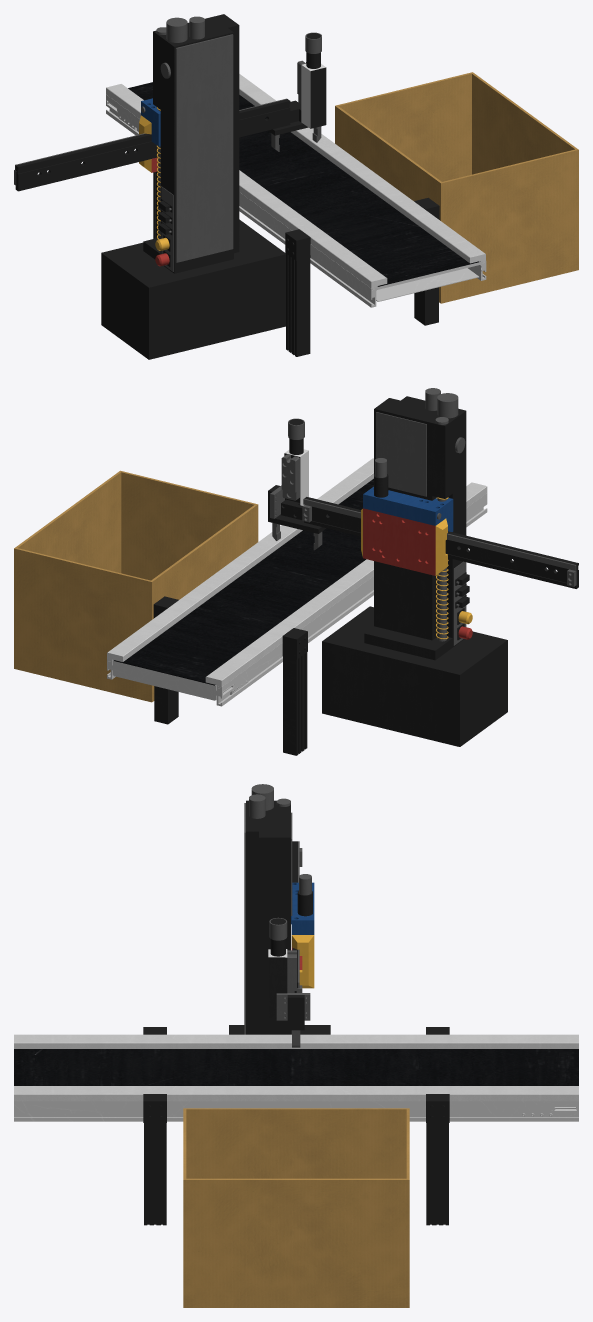
Rendered from Collection_Box_Station.glb.
3 views of the same model, one above another, from view 1: azimuth 30°, elevation 25°; view 2: azimuth 150°, elevation 25°; view 3: azimuth 270°, elevation 25° (orthographic). The views are drawn at different scales.
Visible parts, largest first — view 1: color-49, color, color-47[2].001, color[26], color[25], color-5[3], color-47[3].001, color-47[4].001, color-47[5].001, color-48[1], color-47[1].001, color-48[2] (+4 smaller); view 2: color-49, color, color-47[2].001, color[25], color-47[3].001, color-47[4].001, color-5[3], color-2[7], color[24], color-48, color-47[5].001, color-47.001 (+10 smaller); view 3: color-49, color-47[2].001, color-47[3].001, color-47[4].001, color[25], color-47[5].001, color-48[2], color-48[3], color-47.001, color-5[7], color-2[5], color-2[1].
Part boxes in pixels (<box>): color-49: <box>335,72,578,303</box>; color: <box>101,219,285,359</box>; color-47[2].001: <box>128,82,479,286</box>; color[26]: <box>175,34,233,262</box>; color[25]: <box>153,14,239,263</box>; color-5[3]: <box>15,99,290,191</box>; color-47[3].001: <box>239,74,485,263</box>; color-47[4].001: <box>106,84,387,289</box>; color-47[5].001: <box>125,109,486,307</box>; color-48[1]: <box>285,229,310,356</box>; color-47[1].001: <box>376,268,478,301</box>; color-48[2]: <box>414,197,439,325</box>; color-49: <box>14,470,258,702</box>; color: <box>322,606,507,746</box>; color-47[2].001: <box>113,478,373,685</box>; color[25]: <box>374,396,466,640</box>; color-47[3].001: <box>107,458,373,661</box>; color-47[4].001: <box>205,482,487,688</box>; color-5[3]: <box>304,497,578,588</box>; color-2[7]: <box>363,508,435,575</box>; color[24]: <box>376,412,426,496</box>; color-48: <box>282,628,307,755</box>; color-47[5].001: <box>241,493,487,691</box>; color-47.001: <box>107,659,248,706</box>; color-49: <box>183,1108,409,1307</box>; color-47[2].001: <box>14,1049,578,1085</box>; color-47[3].001: <box>14,1086,578,1101</box>; color-47[4].001: <box>14,1034,578,1048</box>; color[25]: <box>246,800,290,1034</box>; color-47[5].001: <box>14,1101,537,1121</box>; color-48[2]: <box>143,1094,166,1225</box>; color-48[3]: <box>426,1094,449,1225</box>; color-47.001: <box>520,1101,578,1121</box>; color-5[7]: <box>268,957,287,1018</box>; color-2[5]: <box>291,935,314,988</box>; color-2[1]: <box>291,882,314,934</box>.
Bounding box in the file's own units: 1.11 × 0.6555 × 1.
9 materials, 9 textured.
